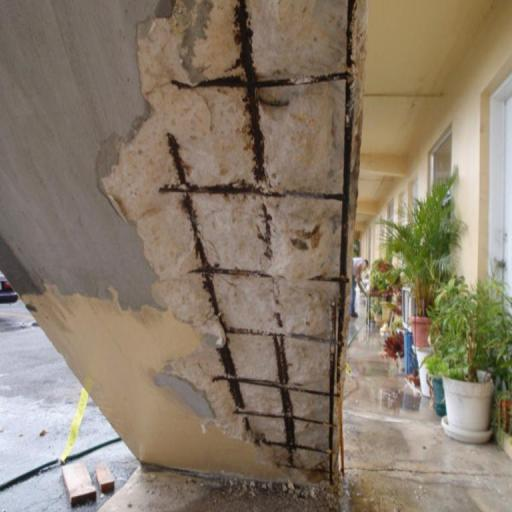spalling: (110, 0, 358, 491)
